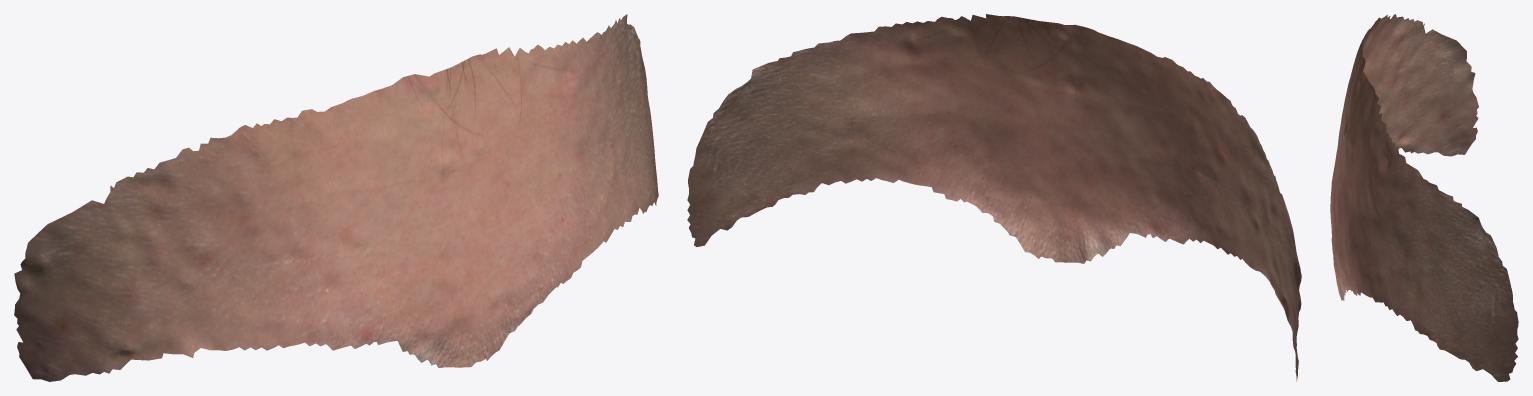
Rendered from forehead04.obj.
3 renders of one model, left to right at view 1: azimuth 30°, elevation 25°; view 2: azimuth 150°, elevation 25°; view 3: azimuth 270°, elevation 25°, orthographic. The views are drawn at different scales.
Parts seen in each view (by area): view 1: default; view 2: default; view 3: default.
Part boxes in pixels (bbox=[...]): default: bbox=[14, 14, 658, 381]; default: bbox=[687, 14, 1301, 381]; default: bbox=[1330, 14, 1518, 381].
Bounding box in the file's own units: 120 × 50.04 × 39.18.
1 material, 1 textured.
